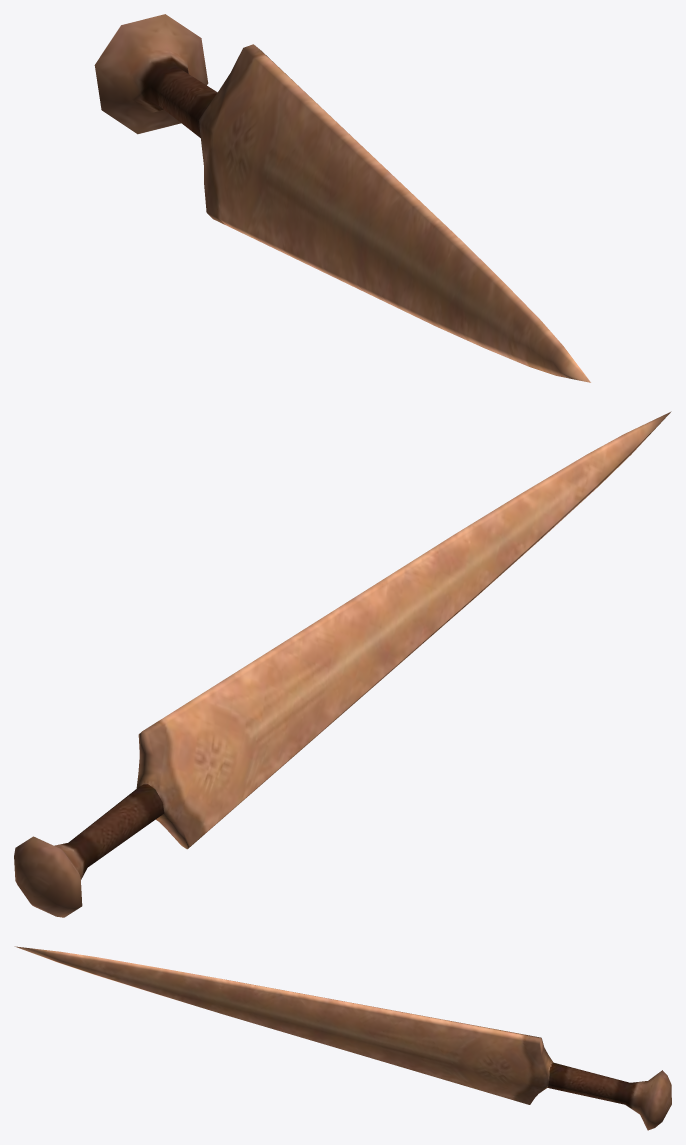
The model's file is rider-weapon-slice-ironweapons.glb.
The picture shows the model from 3 angles, top to bottom: view 1: azimuth 30°, elevation 25°; view 2: azimuth 150°, elevation 25°; view 3: azimuth 270°, elevation 25°; orthographic projection. The views are drawn at different scales.
Size of the model in its own units: 0.2376 by 0.2376 by 1.08.
1 material, 1 textured.
